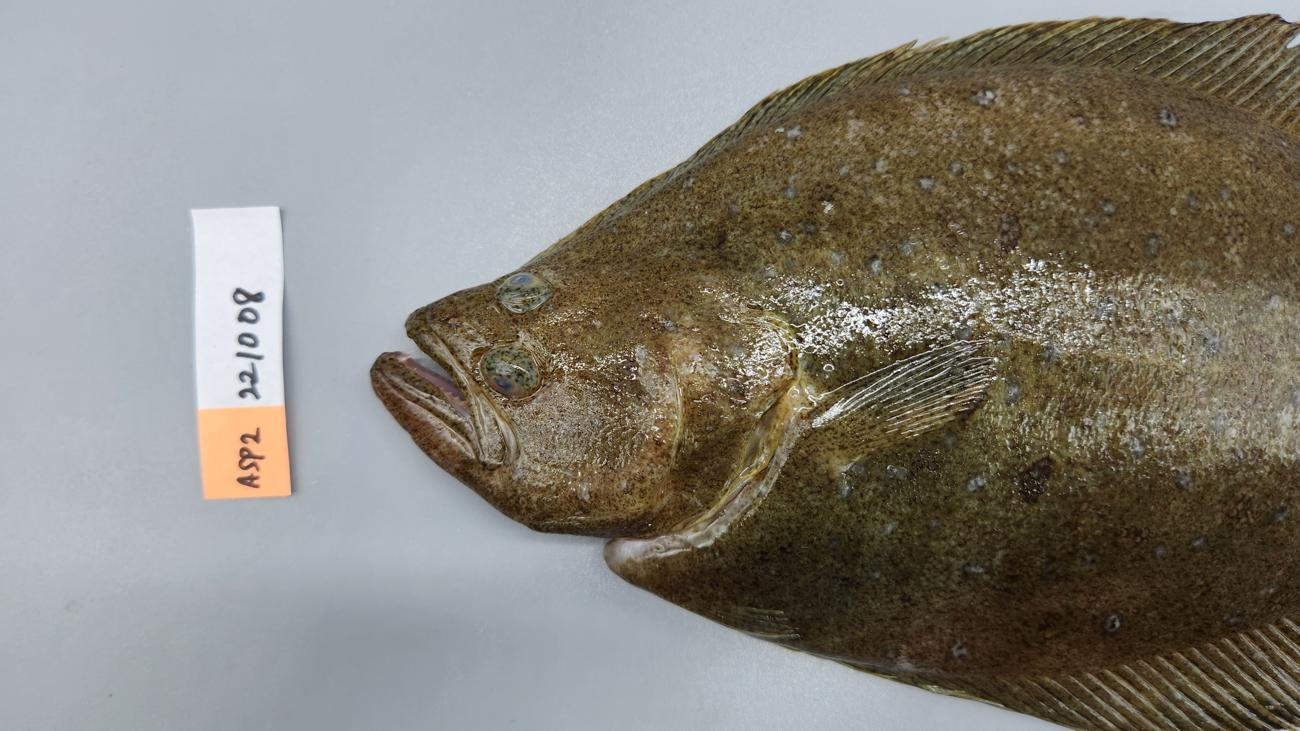SPDYH: (678, 64, 1299, 197)
